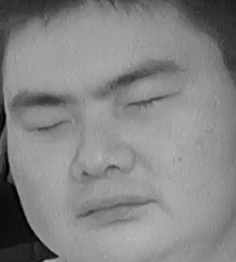blink: (23, 109, 73, 143), (126, 85, 177, 118)
mouth: (70, 186, 157, 232)
